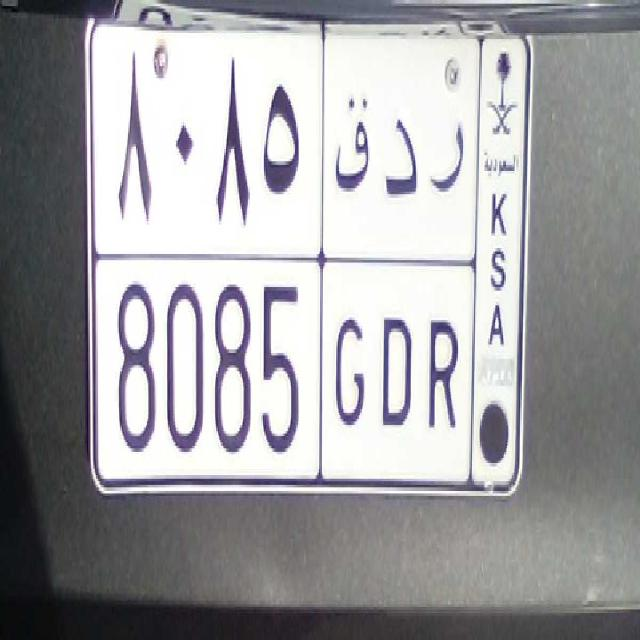license_plate: (110, 248, 470, 478)
